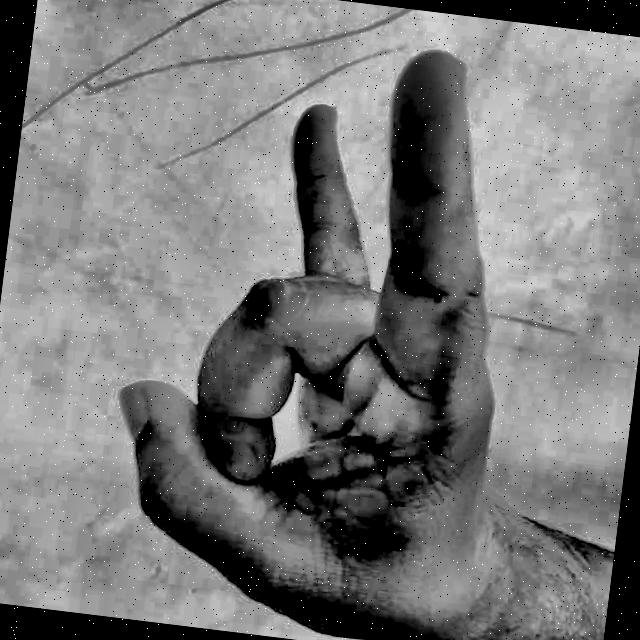Cha: (69, 0, 570, 640)
